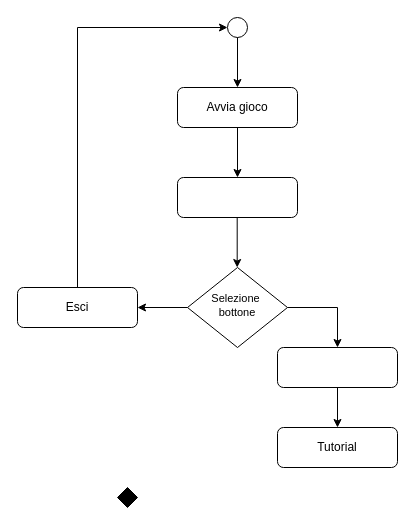
Image size: 415x525. Some labels were removed from this diagram. The box of each missing label's shape, as (x1, y1, x2, y2) in pixels:
Gioca: (276, 346, 398, 388)
Menu Principale: (176, 176, 298, 218)
